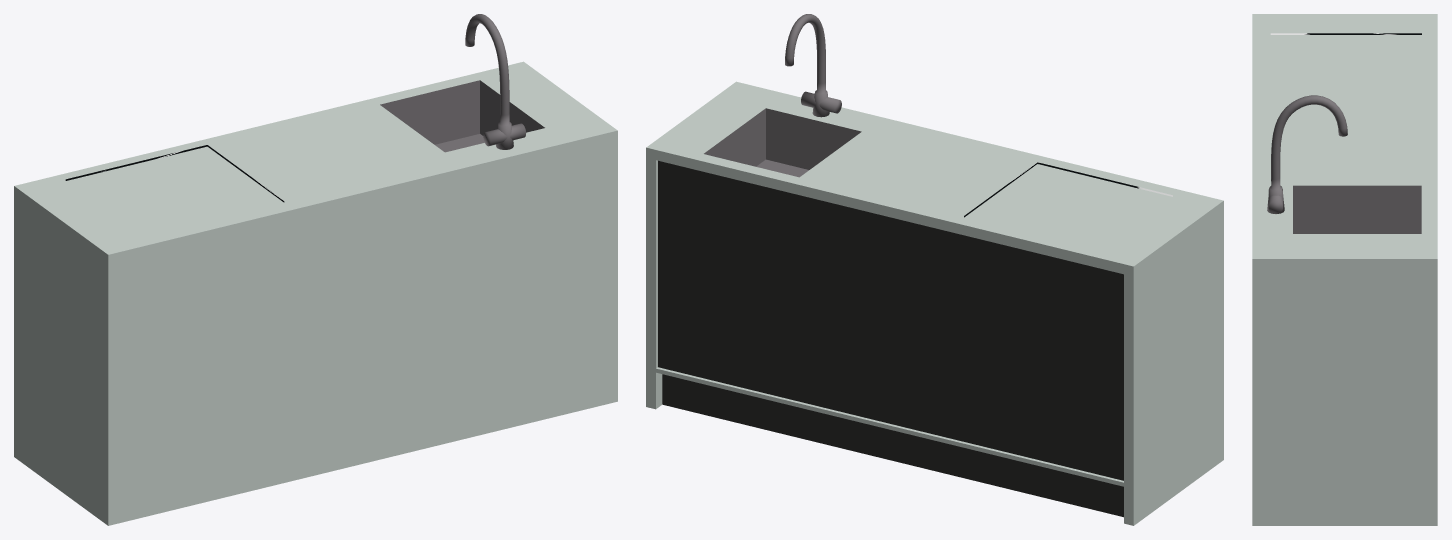
The model's file is keuken.glb.
3 renders of one model, left to right at view 1: azimuth 30°, elevation 25°; view 2: azimuth 150°, elevation 25°; view 3: azimuth 270°, elevation 25°, orthographic. The views are drawn at different scales.
Visible parts, largest first — view 1: Cube, BezierCurve; view 2: Cube, BezierCurve; view 3: Cube, BezierCurve.
Boxes of the visible parts, left/top/right/bottom form: Cube: left=14, top=61, right=617, bottom=525; BezierCurve: left=465, top=14, right=525, bottom=149; Cube: left=646, top=81, right=1223, bottom=525; BezierCurve: left=785, top=14, right=841, bottom=117; Cube: left=1252, top=14, right=1437, bottom=525; BezierCurve: left=1267, top=95, right=1347, bottom=213.
Size of the model in its own units: 2.5 by 1.82 by 0.8001.
Materials: 4 (1 with a texture image).
